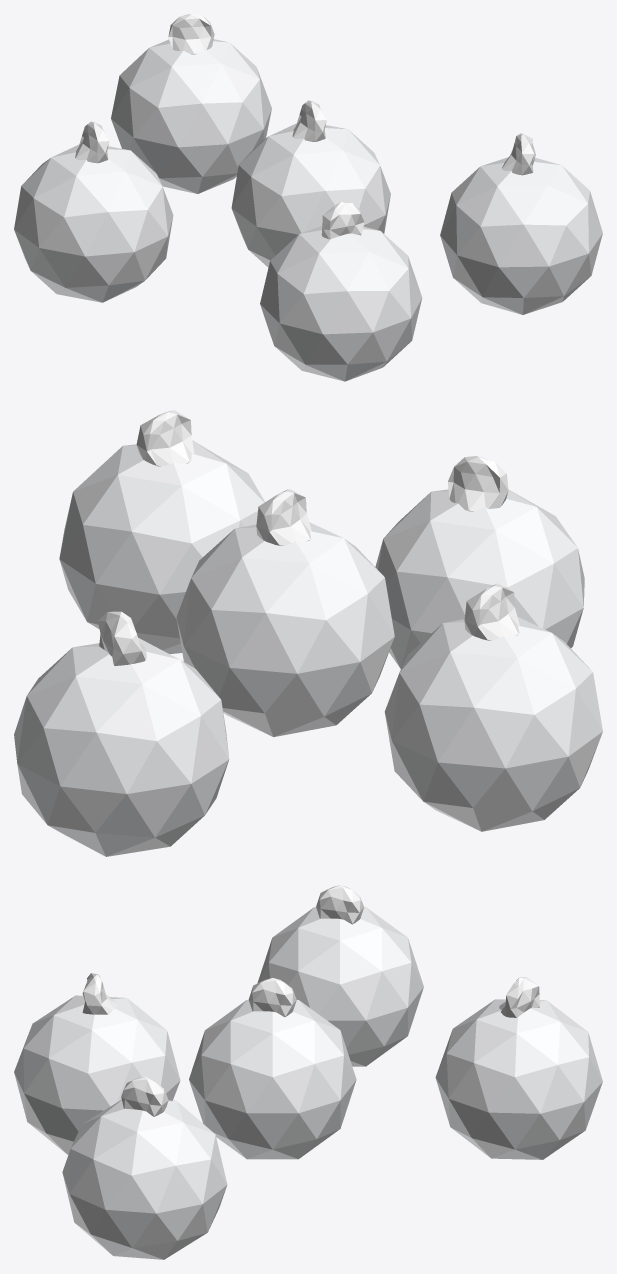
The model's file is Fruit2.fbx.
3 views of the same model, one above another, from view 1: azimuth 30°, elevation 25°; view 2: azimuth 150°, elevation 25°; view 3: azimuth 270°, elevation 25° (orthographic). The views are drawn at different scales.
Visible parts, largest first — view 1: Icosphere.003; view 2: Icosphere.003; view 3: Icosphere.003.
Part boxes in pixels (bbox=[...]): Icosphere.003: bbox=[14, 14, 602, 381]; Icosphere.003: bbox=[14, 410, 602, 856]; Icosphere.003: bbox=[14, 885, 602, 1259].
Size of the model in its own units: 745 by 298 by 785.
